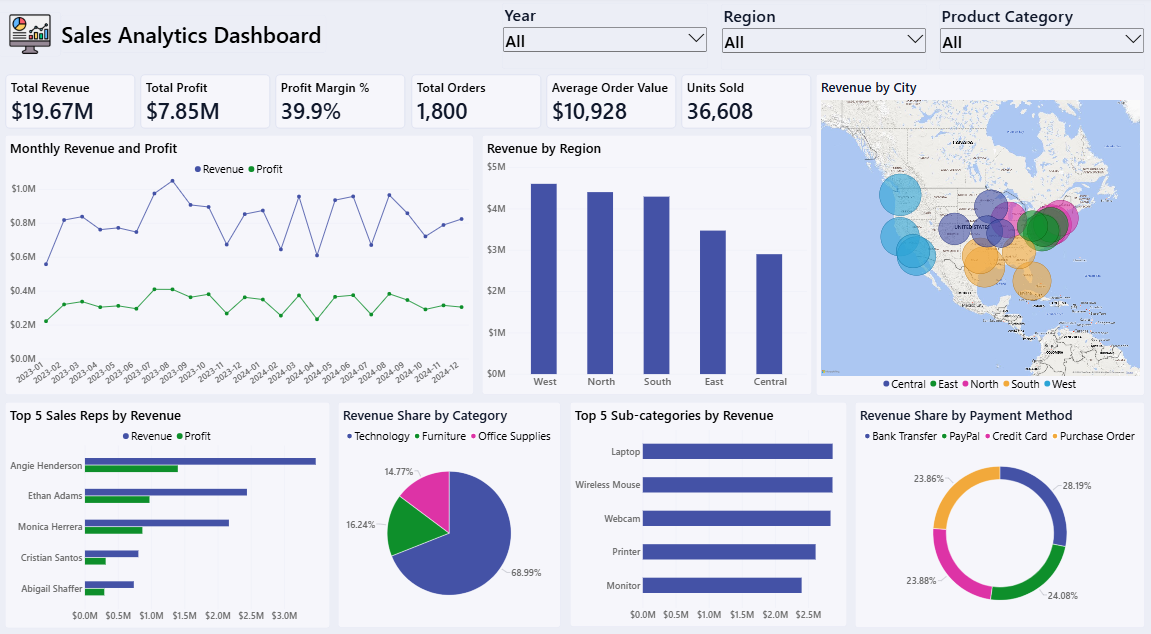

What the dashboard file says about the page in this screenshot:
{"tool":"powerbi","page":{"name":"Page 1","canvas":[4200,2330],"ordinal":0},"visuals":[{"type":"cardVisual","fields":{"Data":["Measures_Table.Total Revenue"]},"box":[25.5,280.3,475,200.2],"z":0},{"type":"cardVisual","fields":{"Data":["Measures_Table.Total Profit"]},"box":[517.8,280.3,475,200],"z":1000},{"type":"cardVisual","fields":{"Data":["Measures_Table.Profit Margin %"]},"box":[1010.1,280.3,475,200],"z":2000},{"type":"cardVisual","fields":{"Data":["Measures_Table.Total Orders"]},"box":[1502.5,280.3,475,200],"z":3000},{"type":"cardVisual","fields":{"Data":["Measures_Table.Average Order Value"]},"box":[1994.8,280.3,475,200],"z":4000},{"type":"cardVisual","fields":{"Data":["Measures_Table.Units Sold"]},"box":[2487.1,281.2,475,200],"z":5000},{"type":"lineChart","title":"Monthly Revenue and Profit","fields":{"Y":["Measures_Table.Total Revenue","Measures_Table.Total Profit"],"Category":["Date.YearMonth"]},"box":[25.6,504,1617.9,945.9],"z":6000},{"type":"clusteredColumnChart","title":"Revenue by Region","fields":{"Category":["sales_transactions.Region"],"Y":["Measures_Table.Total Revenue"]},"box":[1669,504,1292.9,945.9],"z":7000},{"type":"pieChart","title":"Revenue Share by Category","fields":{"Category":["sales_transactions.ProductCategory"],"Y":["Measures_Table.Total Revenue"]},"box":[1238.1,1475.4,809.5,821.4],"z":8000},{"type":"clusteredBarChart","title":"Top 5 Sub-categories by Revenue","fields":{"Category":["sales_transactions.ProductSubCategory"],"Y":["Measures_Table.Total Revenue"]},"box":[2081.6,1476.1,1008.2,818.4],"z":9000},{"type":"clusteredBarChart","title":"Top 5 Sales Reps by Revenue","fields":{"Category":["sales_transactions.SalesRep"],"Y":["Measures_Table.Total Revenue","Measures_Table.Total Profit"]},"box":[25.5,1474.5,1168.6,822.8],"z":10000},{"type":"donutChart","title":"Revenue Share by Payment Method","fields":{"Category":["sales_transactions.PaymentMethod"],"Y":["Measures_Table.Total Revenue"]},"box":[3119,1474.7,1055.5,821.7],"z":11000},{"type":"shape","box":[229.6,64.8,964.8,136.6],"z":12000},{"type":"map","title":"Revenue by City","fields":{"Category":["sales_transactions.Location"],"Size":["Measures_Table.Total Revenue"],"Series":["sales_transactions.Region"]},"box":[2982.8,281,1191.4,1169],"z":13000},{"type":"slicer","fields":{"Values":["Date.Year"]},"box":[1836.5,20.9,750,240],"z":14000},{"type":"slicer","fields":{"Values":["sales_transactions.Region"]},"box":[2631.3,25.1,750,240],"z":15000},{"type":"slicer","fields":{"Values":["sales_transactions.ProductCategory"]},"box":[3425.8,25.5,750,240],"z":16000},{"type":"image","box":[0,52.9,229.4,160.8],"z":17000}]}

Visuals, with their boxes in screenshot pixels (x1, y1, x2, y2), scaled from the page's 4200x2330 canvas onto the 1151x634 screenshot:
cardVisual - Measures_Table.Total Revenue: locate(7, 76, 137, 131)
cardVisual - Measures_Table.Total Profit: locate(142, 76, 272, 131)
cardVisual - Measures_Table.Profit Margin %: locate(277, 76, 407, 131)
cardVisual - Measures_Table.Total Orders: locate(412, 76, 542, 131)
cardVisual - Measures_Table.Average Order Value: locate(547, 76, 677, 131)
cardVisual - Measures_Table.Units Sold: locate(682, 77, 812, 131)
"Monthly Revenue and Profit" lineChart: locate(7, 137, 450, 395)
"Revenue by Region" clusteredColumnChart: locate(457, 137, 812, 395)
"Revenue Share by Category" pieChart: locate(339, 401, 561, 625)
"Top 5 Sub-categories by Revenue" clusteredBarChart: locate(570, 402, 847, 624)
"Top 5 Sales Reps by Revenue" clusteredBarChart: locate(7, 401, 327, 625)
"Revenue Share by Payment Method" donutChart: locate(855, 401, 1144, 625)
shape: locate(63, 18, 327, 55)
"Revenue by City" map: locate(817, 76, 1144, 395)
slicer - Date.Year: locate(503, 6, 709, 71)
slicer - sales_transactions.Region: locate(721, 7, 927, 72)
slicer - sales_transactions.ProductCategory: locate(939, 7, 1144, 72)
image: locate(0, 14, 63, 58)
